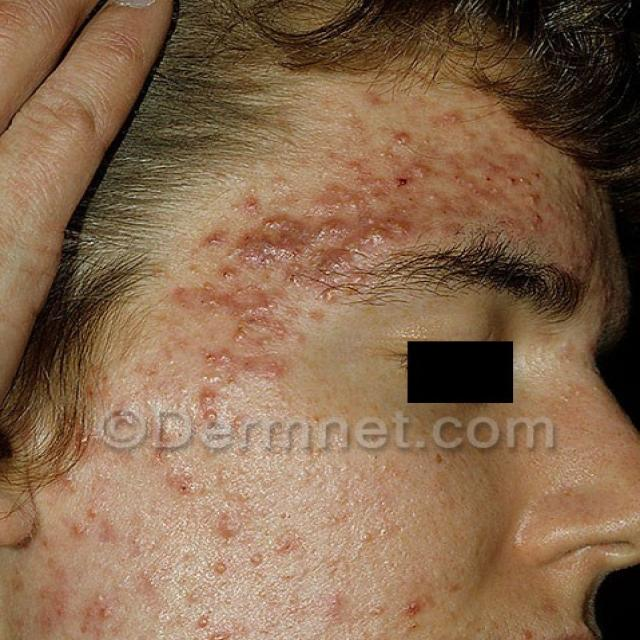Acne: (102, 204, 348, 523), (324, 92, 590, 258)
